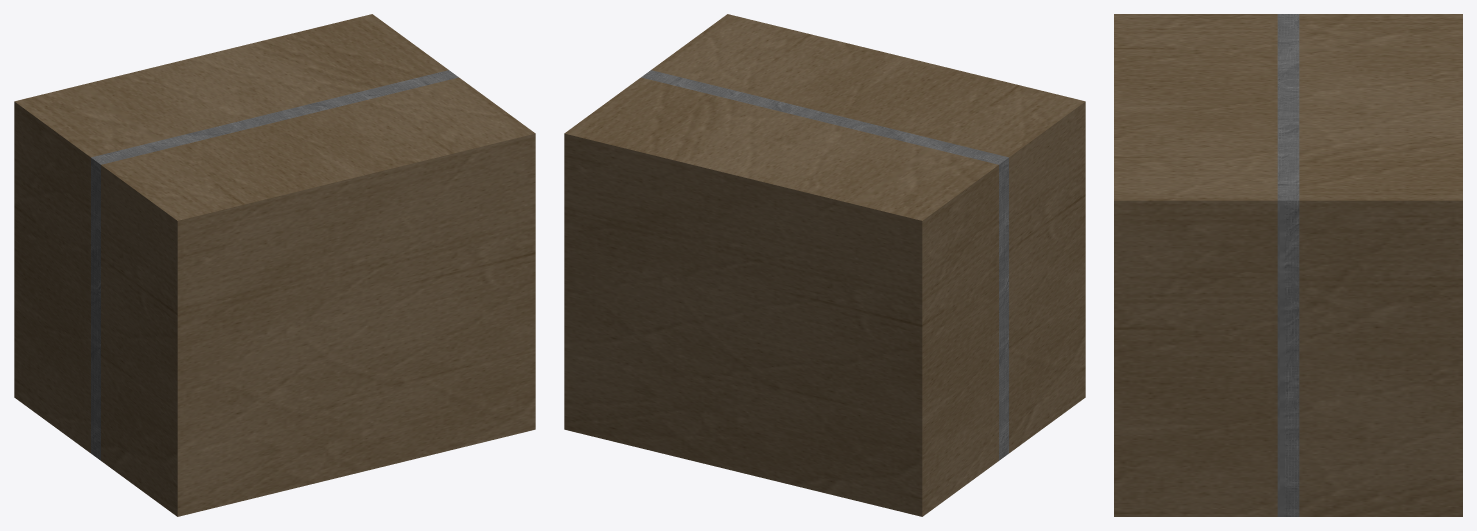
3 renders of one model, left to right at view 1: azimuth 30°, elevation 25°; view 2: azimuth 150°, elevation 25°; view 3: azimuth 270°, elevation 25°, orthographic. The views are drawn at different scales.
Visible parts, largest first — view 1: Cube; view 2: Cube; view 3: Cube.
Boxes of the visible parts, box(x1,y1,x2,y2) form: Cube: box(14, 14, 535, 516); Cube: box(564, 14, 1085, 516); Cube: box(1114, 14, 1462, 516).
Size of the model in its own units: 118 by 93.35 by 93.35.
Materials: 1 (1 with a texture image).
